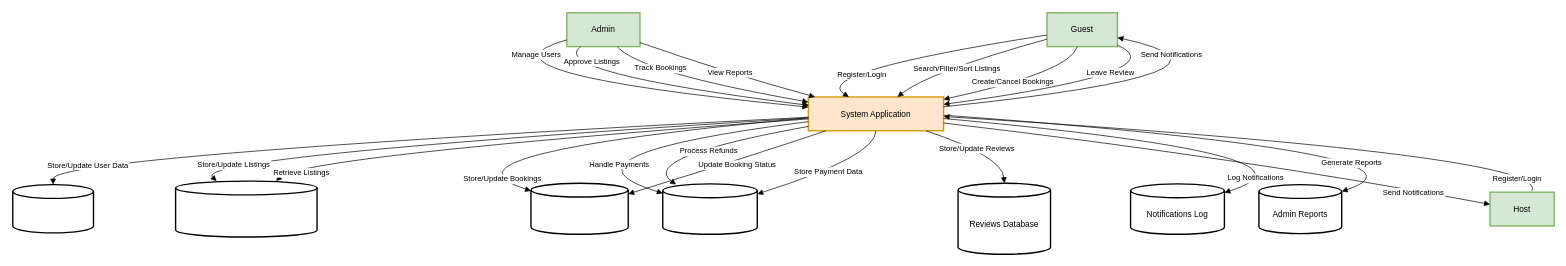
Some shapes in this 1566 by 266 pixel diagram are drawn without their labels. Each missing label, with the centre of its shape:
Booking Database: (x=579, y=208)
Payment Records: (x=710, y=209)
Property Listings Database: (x=246, y=208)
User Database: (x=53, y=208)
